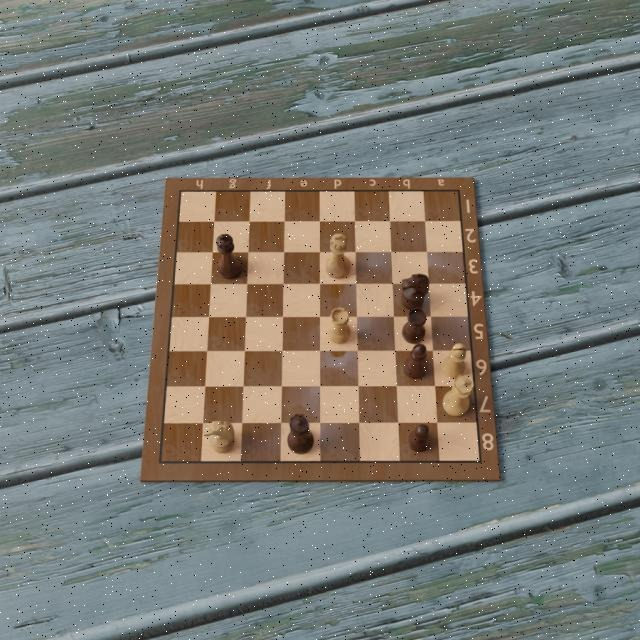black-bishop: (402, 343, 430, 381)
black-king: (215, 234, 244, 280)
black-knight: (400, 272, 431, 312)
black-pawn: (407, 422, 432, 454)
black-queen: (285, 412, 314, 455)
black-rook: (401, 307, 427, 345)
white-bishop: (441, 342, 467, 380)
white-king: (324, 232, 351, 280)
white-knight: (201, 420, 239, 454)
white-queen: (441, 373, 474, 418)
white-rook: (328, 305, 352, 345)
